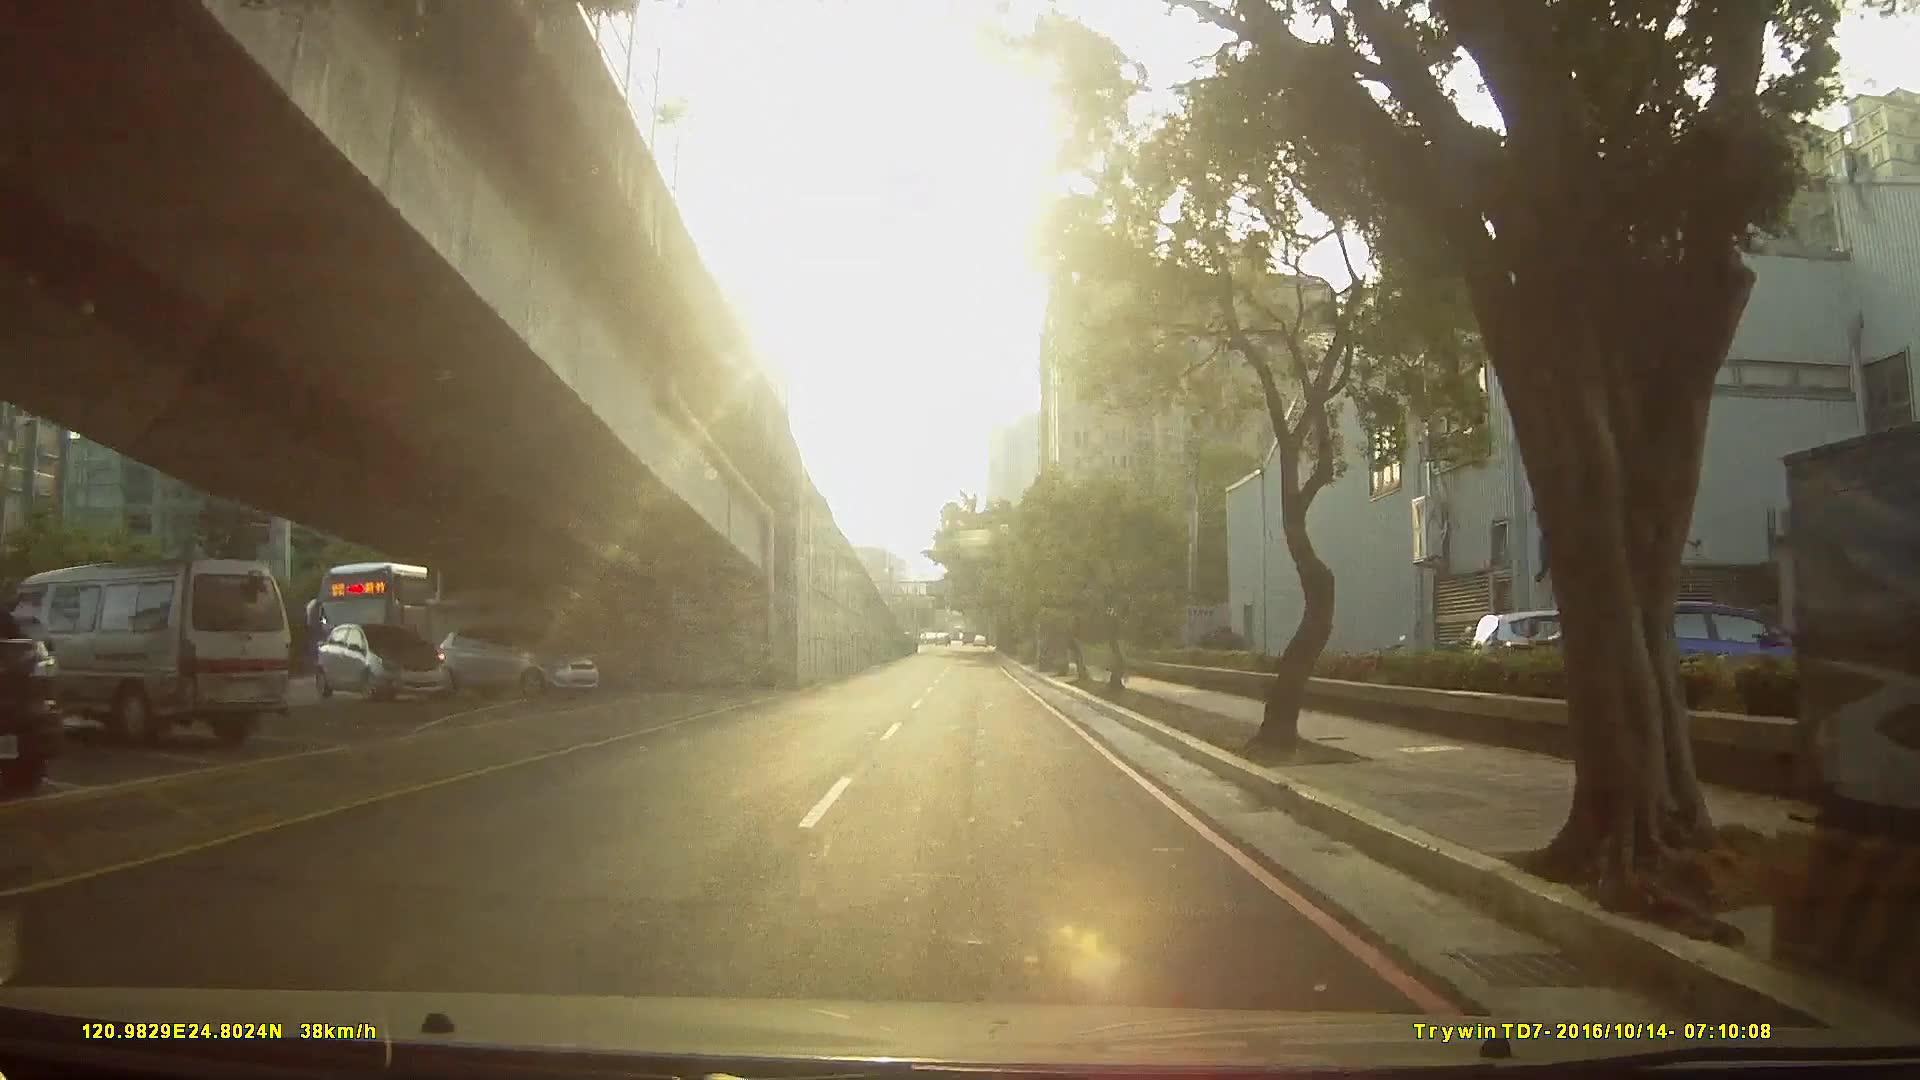vehicle: (12, 549, 291, 748), (305, 556, 521, 695), (1, 604, 88, 803), (426, 620, 597, 700), (303, 617, 444, 704)
